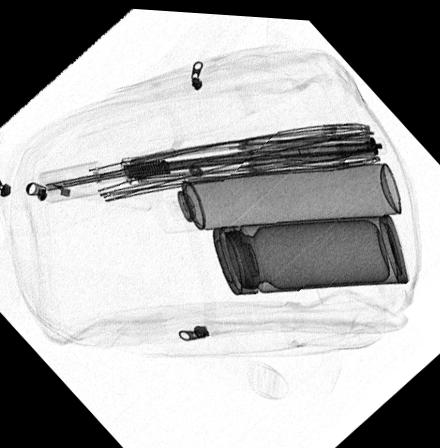Sprayer: (146, 158, 400, 230)
